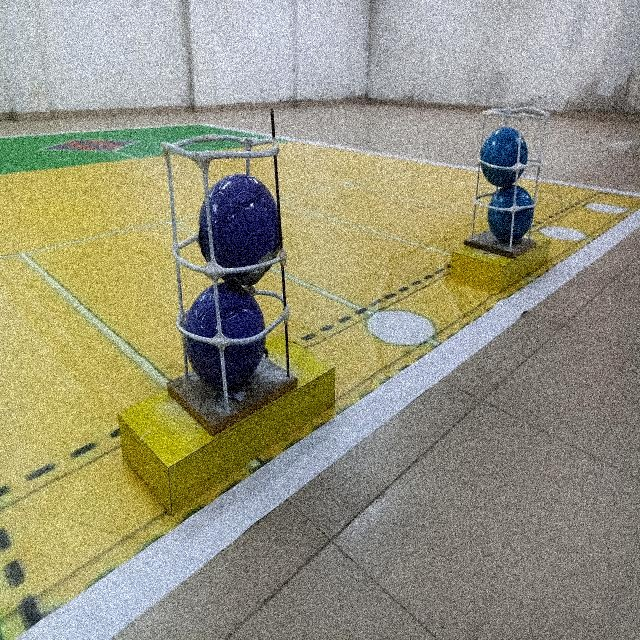blue_ball: (488, 185, 532, 240), (481, 132, 523, 182)
purple_ball: (195, 175, 283, 279), (185, 287, 264, 384)
silo: (160, 130, 295, 424), (466, 103, 553, 267)
